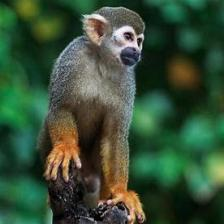monkey: (46, 2, 144, 213)
